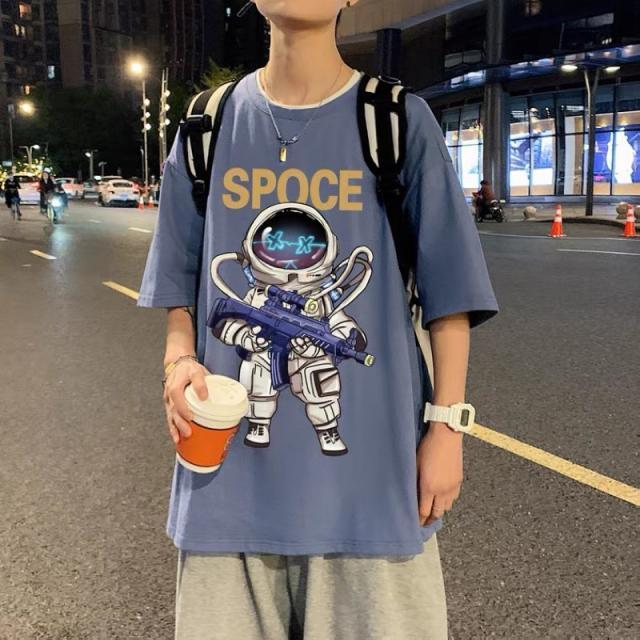Shirt: (133, 69, 492, 558)
